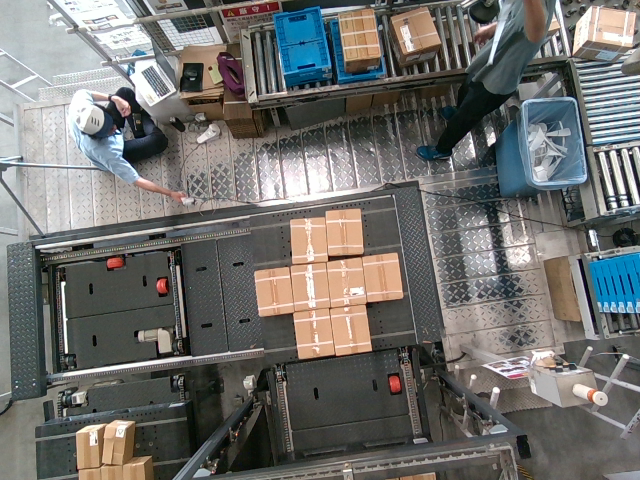box: (292, 311, 333, 357), (360, 253, 400, 300), (253, 265, 290, 314), (331, 309, 372, 353), (326, 259, 363, 307), (287, 216, 325, 262), (324, 208, 361, 255), (292, 266, 329, 309)
